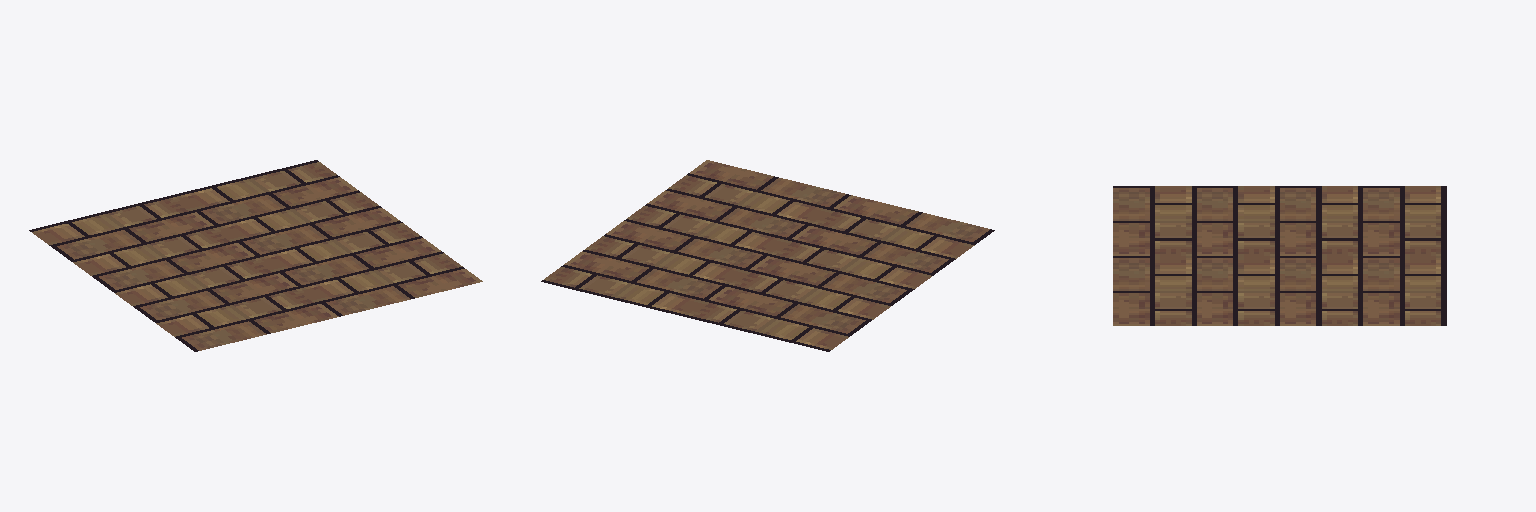
3 renders of one model, left to right at view 1: azimuth 30°, elevation 25°; view 2: azimuth 150°, elevation 25°; view 3: azimuth 270°, elevation 25°, orthographic.
Visible parts, largest first — view 1: Cube; view 2: Cube; view 3: Cube.
Boxes of the visible parts, x1=… form: Cube: x1=29, y1=160, x2=482, y2=351; Cube: x1=541, y1=160, x2=994, y2=351; Cube: x1=1113, y1=186, x2=1446, y2=325.
Size of the model in its own units: 2 by 0 by 2.
Materials: 1 (1 with a texture image).